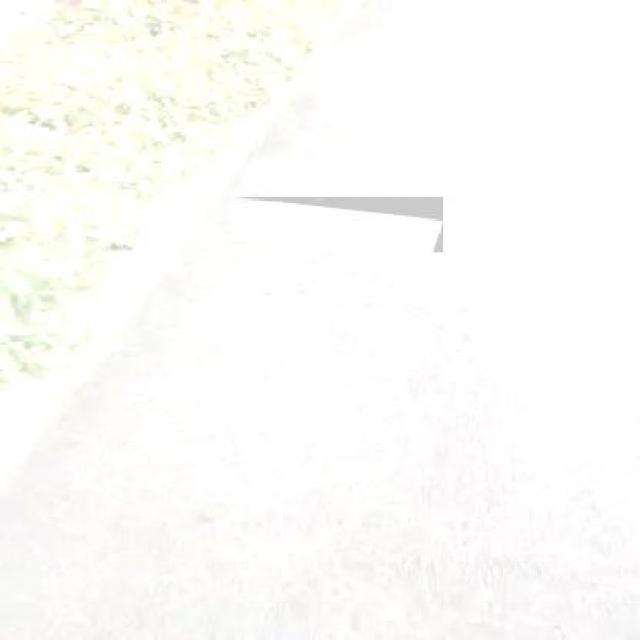Manhole: (232, 198, 443, 252)
